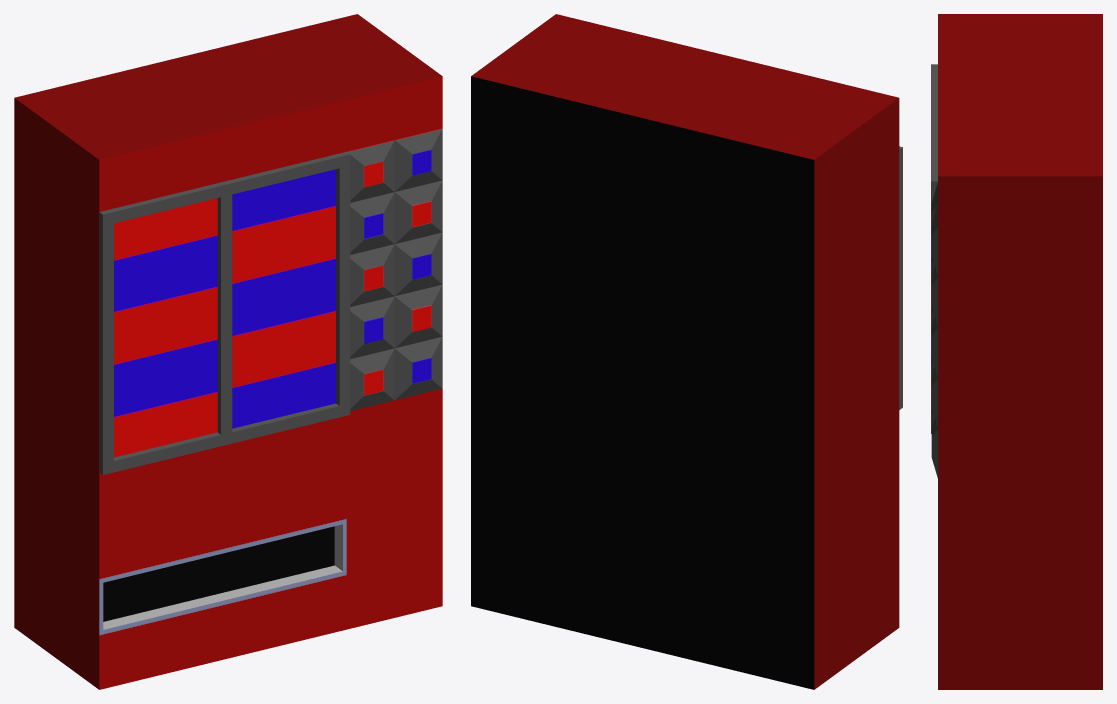
Rendered from vendingMachinevendingMachine1.fbx.
3 views of the same model, side by side, from view 1: azimuth 30°, elevation 25°; view 2: azimuth 150°, elevation 25°; view 3: azimuth 270°, elevation 25° (orthographic). The views are drawn at different scales.
Visible parts, largest first — view 1: vendingMachine1; view 2: vendingMachine1; view 3: vendingMachine1.
Boxes of the visible parts, x1=… form: vendingMachine1: x1=14, y1=14, x2=442, y2=689; vendingMachine1: x1=471, y1=14, x2=902, y2=689; vendingMachine1: x1=931, y1=14, x2=1102, y2=689.
Bounding box in the file's own units: 0.7293 × 0.3262 × 1.08.
Materials: 1 (1 with a texture image).
